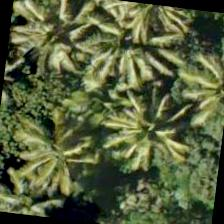Kelapa_Sawit: (102, 70, 202, 170), (0, 112, 98, 213), (3, 0, 91, 90), (151, 33, 223, 133), (107, 0, 204, 63)
